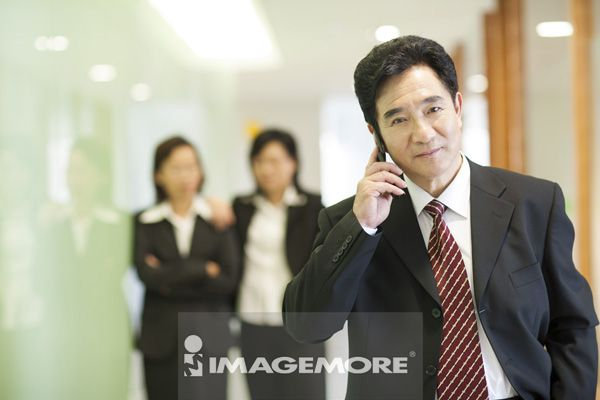phone: (370, 117, 395, 195)
talk: (355, 91, 457, 226)
